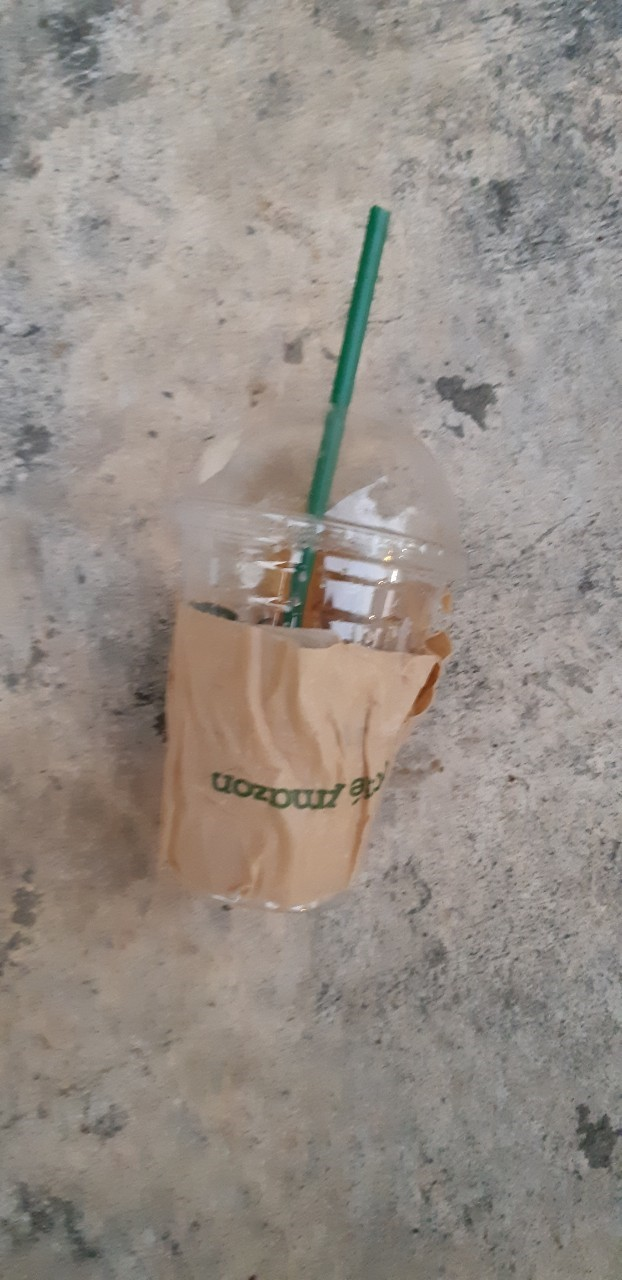PlasticCup: (159, 394, 455, 931)
